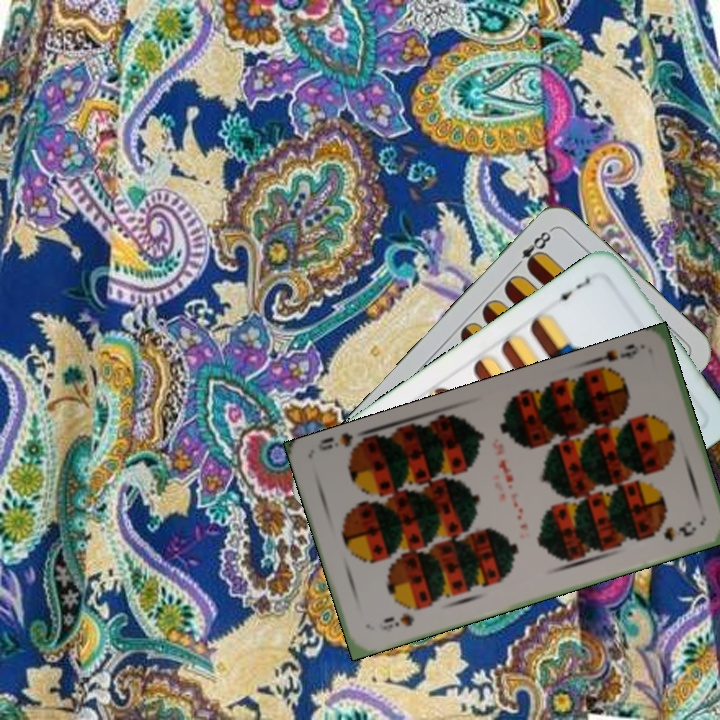E7: (549, 273, 593, 306)
E8: (509, 225, 556, 272)
S9: (588, 340, 646, 378), (378, 609, 417, 635)
